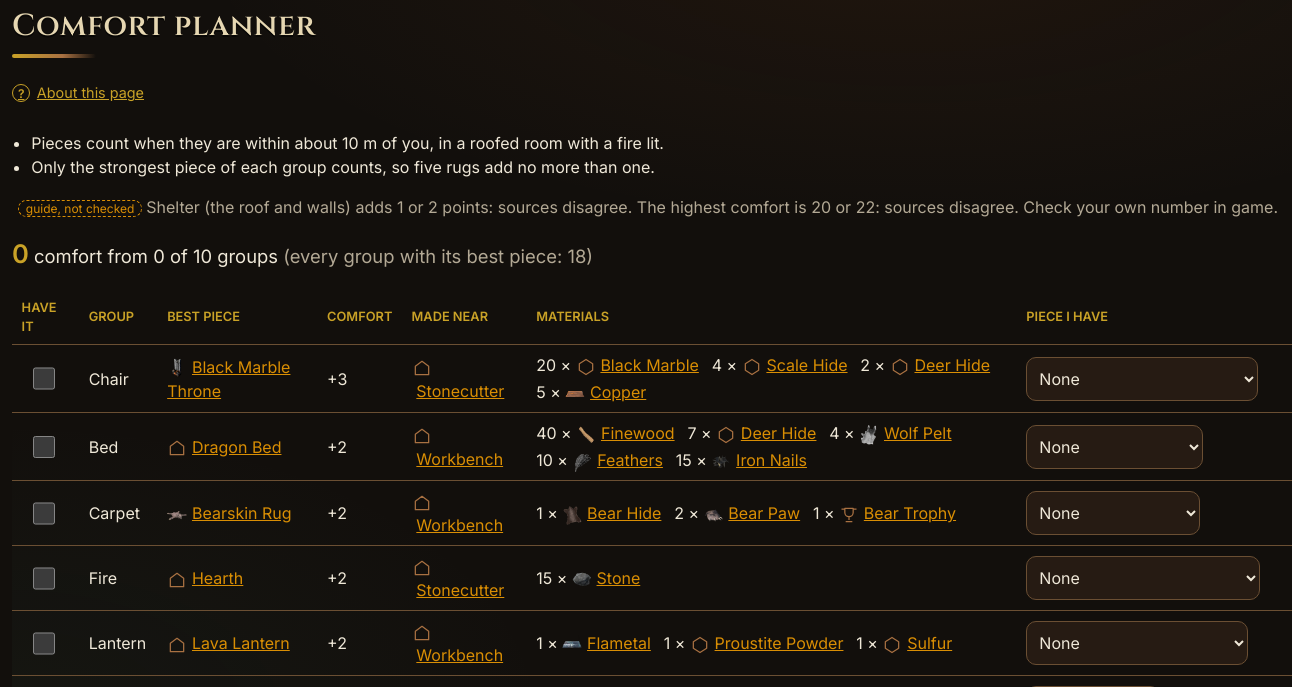
Test: comfort planner › adds up one piece per ticked group and says what is unchecked
The width and height of the screenshot is (1292, 687).
Click the checkbox named "I have a Bed piece": (44, 447) [33, 436, 55, 458]
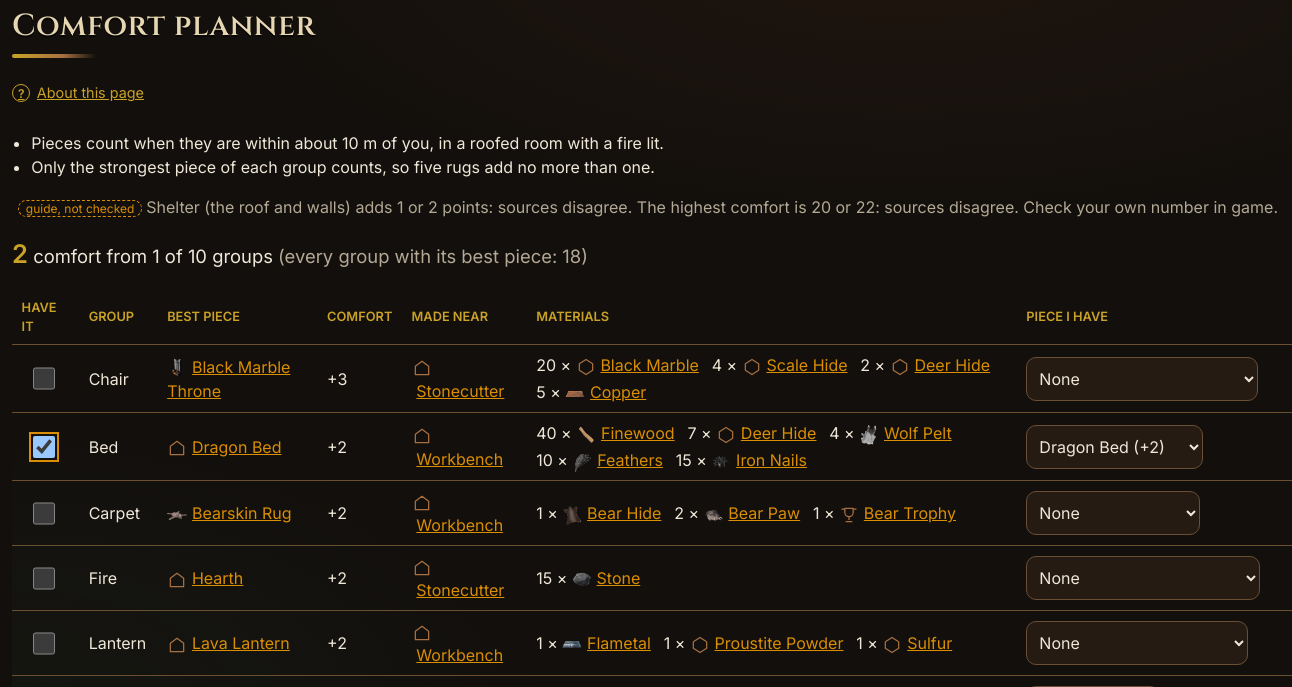
Expected: the dropdown named "Which Bed piece I have" shows "Dragon Bed (+2)", [1026, 425, 1203, 469]
Click the checkbox named "I have a Carpet piece": (44, 513) [33, 502, 55, 524]
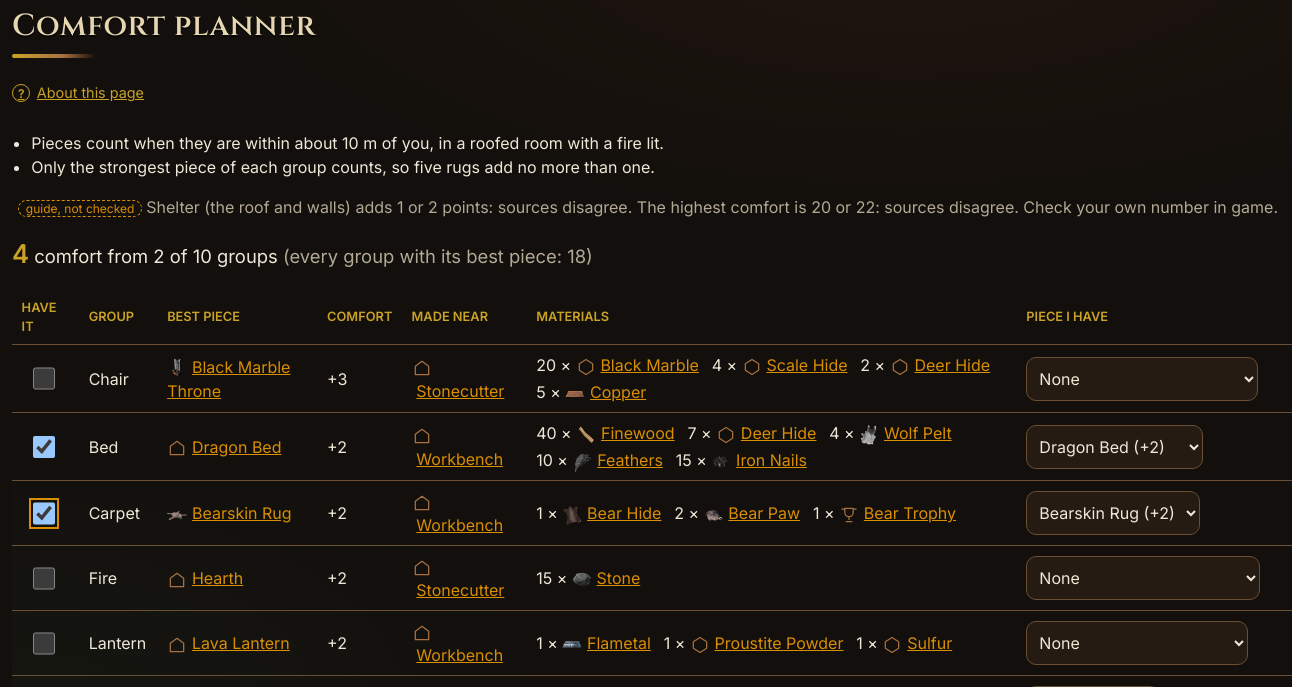
Expected: the text "4" is shown, [12, 238, 29, 269]
Select "Bed (+1)" in the dropdown named "Which Bed piece I have": (1115, 447) [1026, 425, 1203, 469]
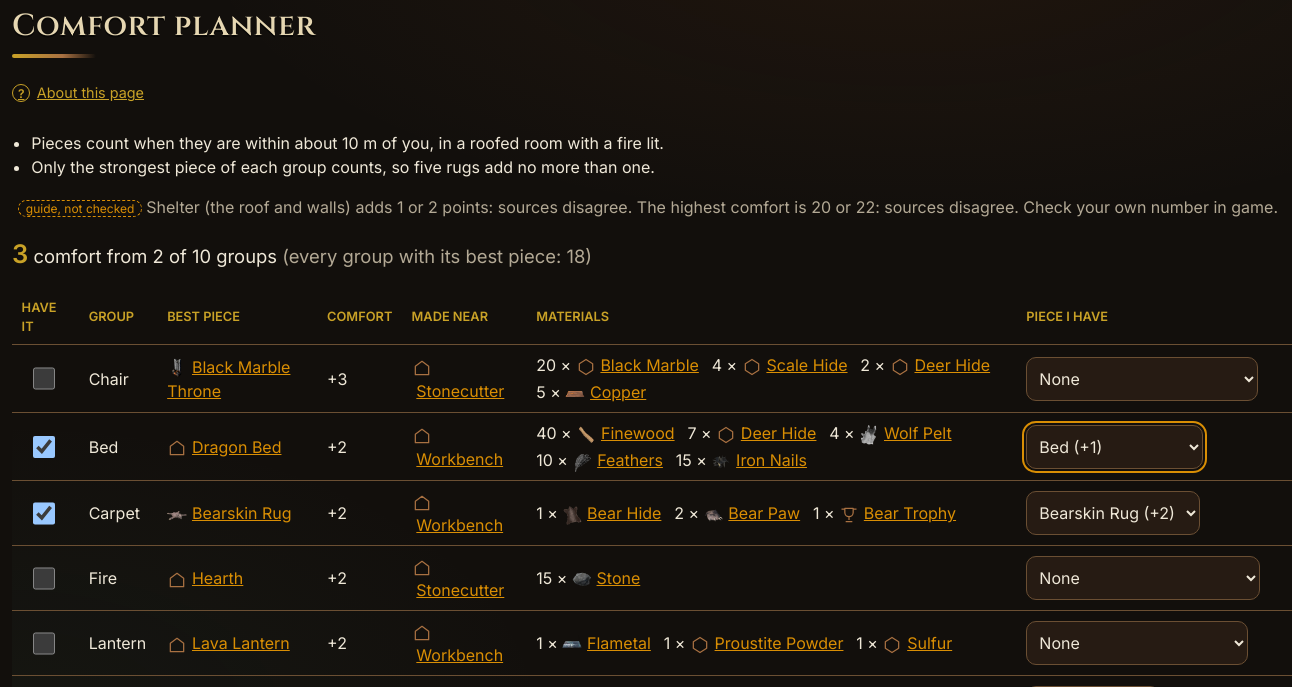
Expected: the text "3" is shown, [12, 238, 28, 269]
